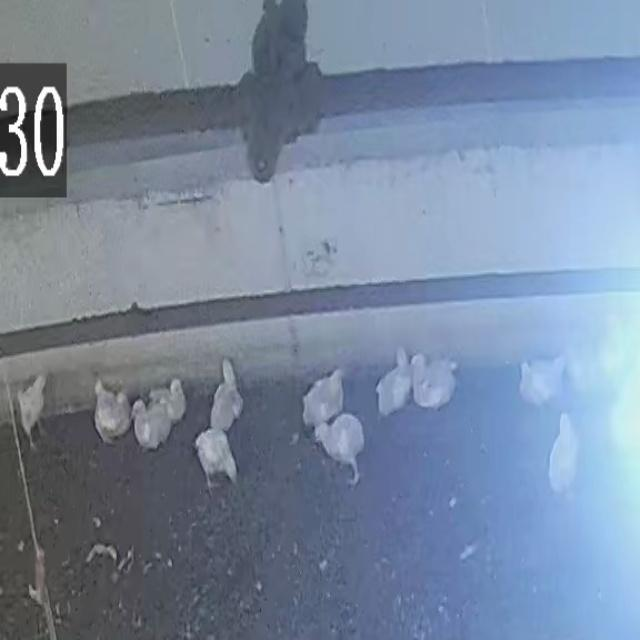chicken: (311, 412, 365, 486), (410, 352, 460, 412), (547, 413, 581, 496), (301, 366, 345, 429), (376, 348, 414, 416), (518, 355, 566, 408), (192, 432, 238, 484), (208, 360, 242, 430), (18, 369, 49, 444), (92, 382, 128, 442), (132, 398, 170, 451), (153, 377, 188, 423)
